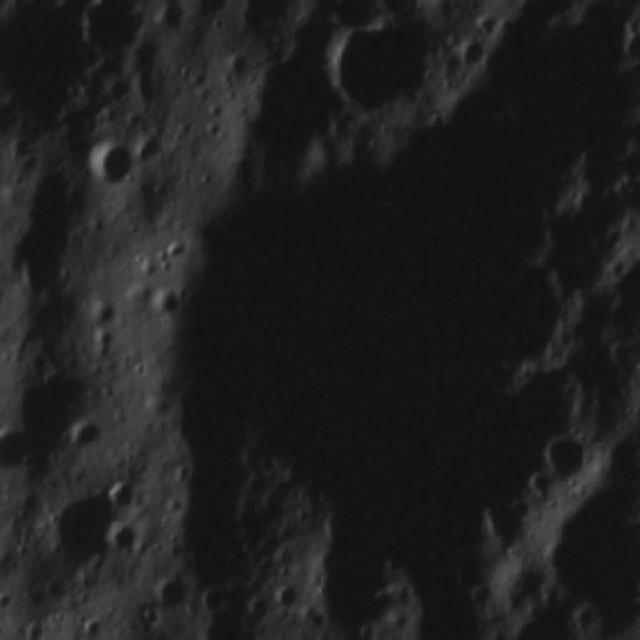crater: (121, 127, 588, 576), (537, 493, 640, 612), (0, 0, 94, 129), (311, 15, 426, 117), (41, 485, 116, 572), (74, 0, 148, 63), (82, 136, 140, 195), (541, 428, 596, 490), (143, 576, 194, 626), (100, 517, 148, 560), (0, 425, 34, 473), (68, 414, 108, 448), (102, 478, 138, 512), (196, 582, 232, 616), (465, 579, 500, 613), (151, 290, 191, 318), (272, 578, 303, 612), (615, 27, 640, 67), (247, 593, 275, 627), (202, 0, 232, 22), (396, 0, 441, 9)
